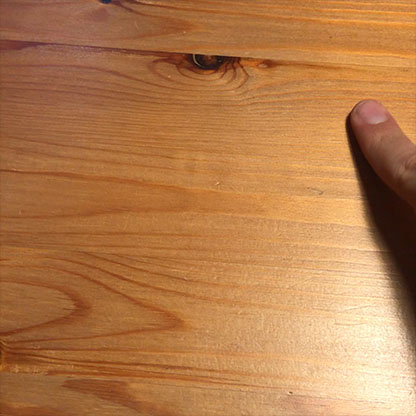fingertip: (344, 90, 394, 131)
